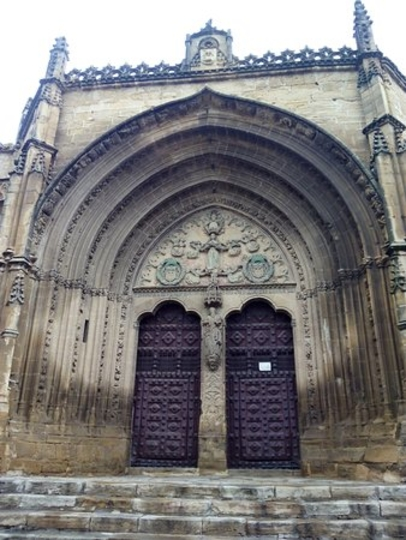arco-apuntado: (94, 122, 332, 283)
arco-conopial: (117, 79, 307, 119)
arco-trilobulado: (218, 291, 299, 328), (130, 295, 208, 332)
